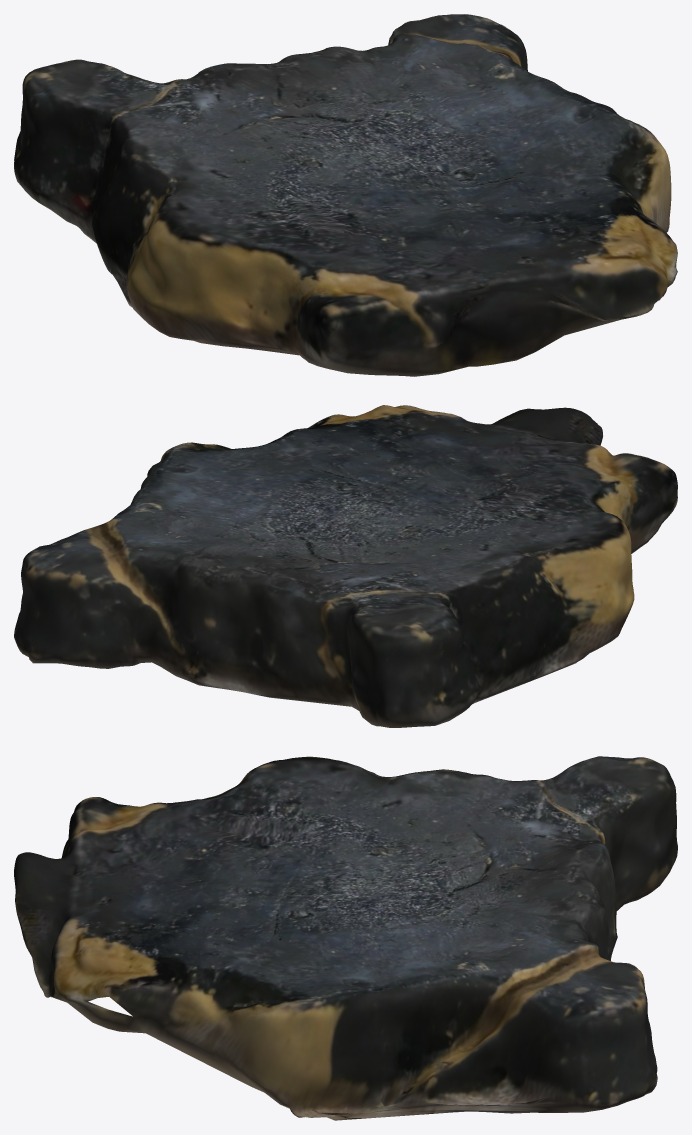
The picture shows the model from 3 angles, top to bottom: view 1: azimuth 30°, elevation 25°; view 2: azimuth 150°, elevation 25°; view 3: azimuth 270°, elevation 25°; orthographic projection. The views are drawn at different scales.
Bounding box in the file's own units: 0.4992 × 0.1439 × 0.5571.
1 material, 1 textured.
